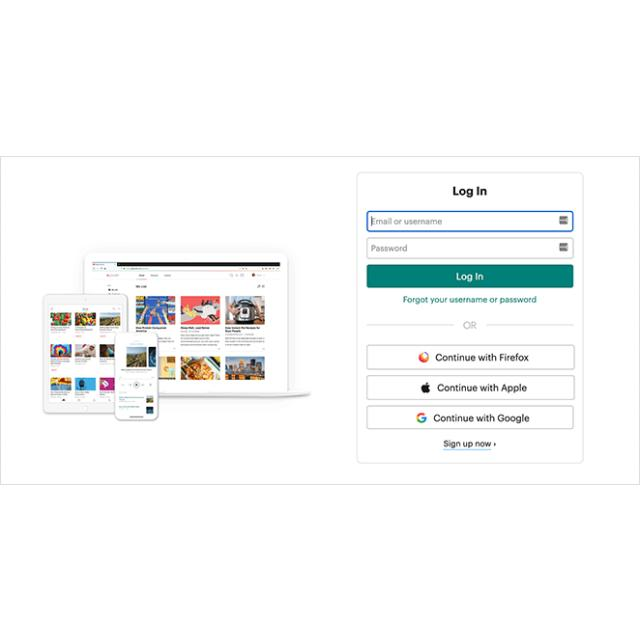QLabel: (402, 294, 538, 304), (433, 413, 529, 423), (436, 352, 528, 362), (437, 382, 528, 392), (442, 438, 496, 450), (450, 184, 488, 198), (455, 271, 485, 281), (463, 320, 477, 330)
VBtn: (366, 344, 576, 371), (366, 262, 574, 288), (366, 374, 574, 400), (366, 404, 574, 430)
VCard: (356, 170, 584, 464)
VDivider: (366, 322, 454, 326), (486, 322, 574, 326)
VIcon: (418, 351, 429, 362), (417, 412, 428, 422), (422, 381, 431, 393)
VImg: (23, 244, 327, 428)
VTextField: (366, 208, 574, 232), (366, 236, 574, 258)
